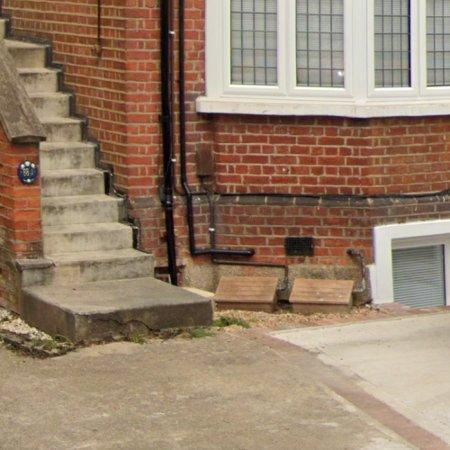stairs: (5, 38, 213, 341)
